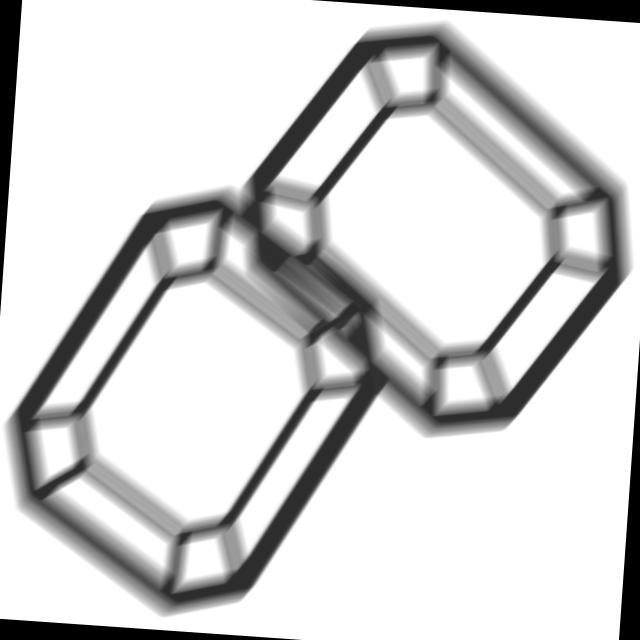emerald: (1, 161, 411, 631), (222, 3, 640, 462)
